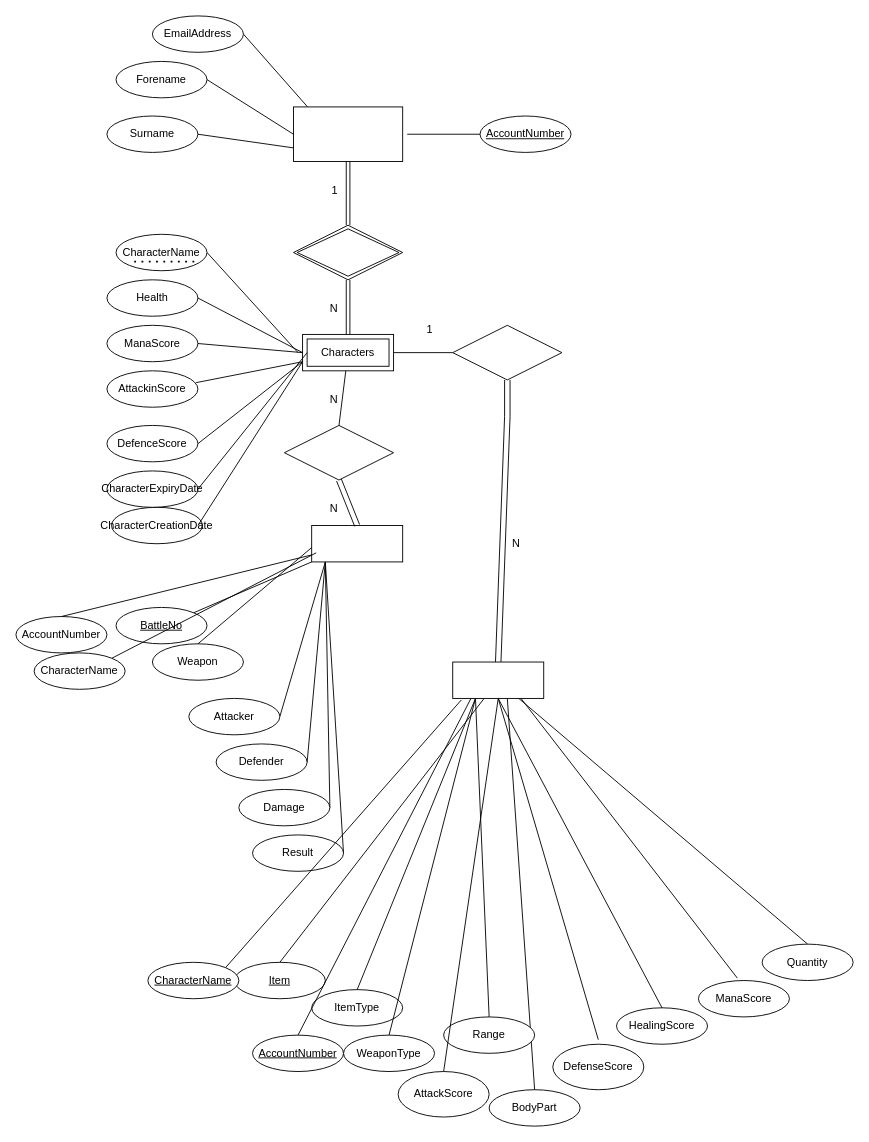
The diagram is 869 pixels wide and 1142 high, and some of its shapes have lost their labels. The shapes that lost their labels are listed below. From the top down, each one's centre as x and y in pixels, then its label:
At [348,134]: "Players".
At [348,252]: "Own".
At [507,352]: "Contains".
At [338,452]: "Partakes In".
At [357,543]: "Battles".
At [498,679]: "InventoryItems".
